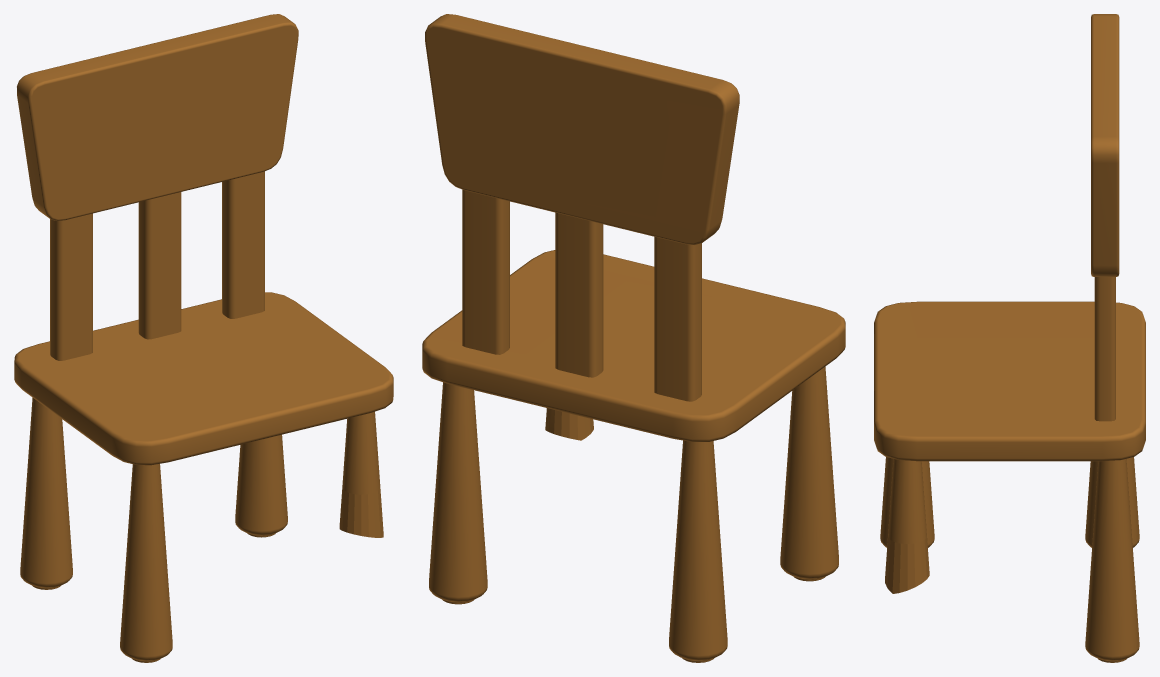
File: brokechair.glb
3 renders of one model, left to right at view 1: azimuth 30°, elevation 25°; view 2: azimuth 150°, elevation 25°; view 3: azimuth 270°, elevation 25°, orthographic. The views are drawn at different scales.
Visible parts, largest first — view 1: childrens_chair.001; view 2: childrens_chair.001; view 3: childrens_chair.001.
Boxes of the visible parts, <box> form: childrens_chair.001: <box>14,14,393,662</box>; childrens_chair.001: <box>422,14,845,662</box>; childrens_chair.001: <box>874,14,1145,662</box>.
Size of the model in its own units: 0.3 by 0.5333 by 0.25.
